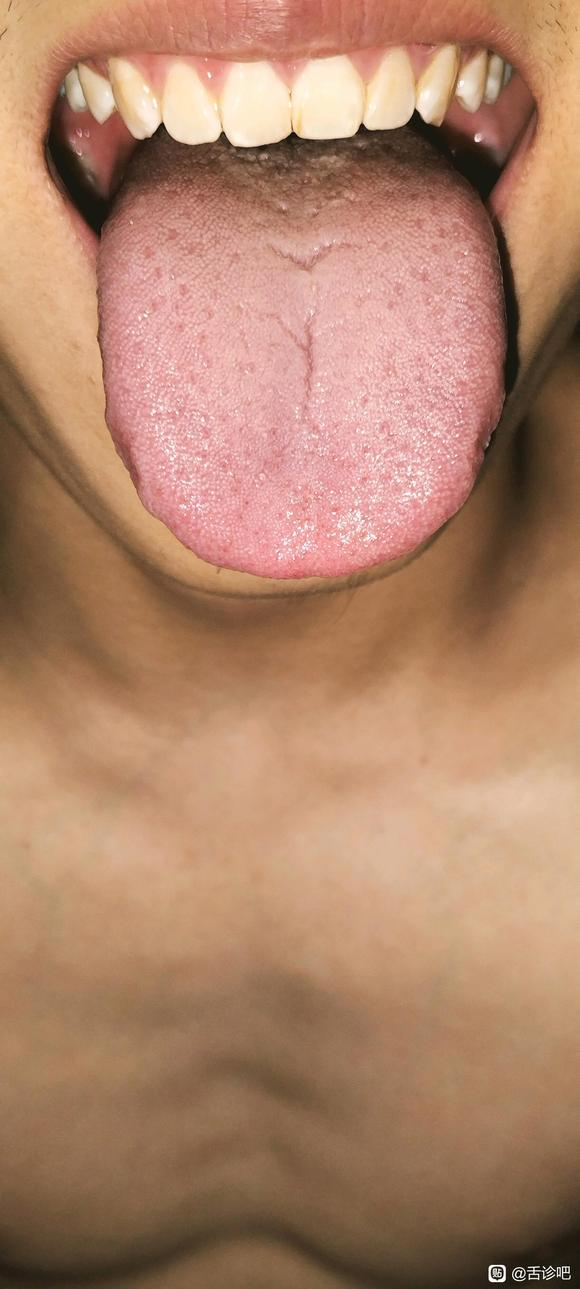baitaishe: (98, 102, 506, 582)
chihenshe: (102, 411, 144, 496)
liewenshe: (272, 314, 315, 419)
